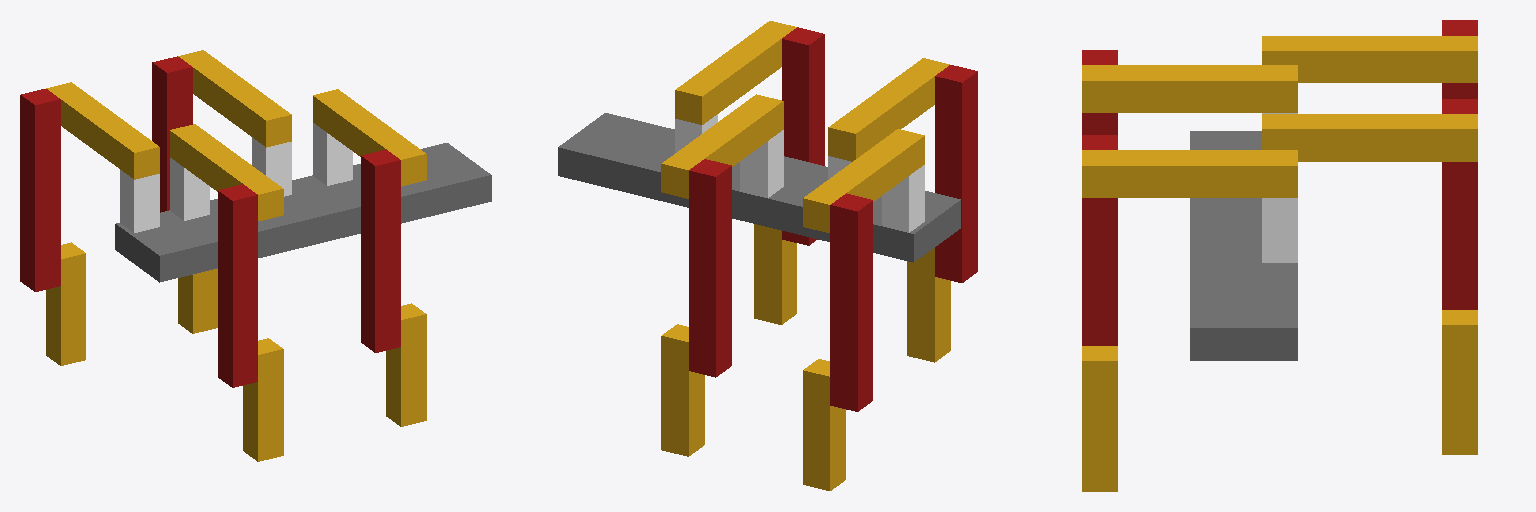
The robot description file, URDF, robot "v0":
<?xml version="1.0" encoding="utf-8"?>
<!-- =================================================================================== -->
<!-- |    This document was autogenerated by xacro from ../robots/v0variants/xacros/v0_4l_27.xacro | -->
<!-- |    EDITING THIS FILE BY HAND IS NOT RECOMMENDED                                 | -->
<!-- =================================================================================== -->
<robot name="v0">
  <material name="grey">
    <color rgba="0.5 0.5 0.5 1"/>
  </material>
  <material name="white">
    <color rgba="1 1 1 1"/>
  </material>
  <material name="yellow">
    <color rgba="0.91 0.7 0.14 1"/>
  </material>
  <material name="red">
    <color rgba="0.71 0.14 0.14 1"/>
  </material>
  <link name="body">
    <visual>
      <geometry>
        <box size="1.3 0.3 0.1"/>
      </geometry>
      <material name="grey"/>
      <origin rpy="0 0 0" xyz="0 0 0.7"/>
    </visual>
    <collision>
      <geometry>
        <box size="1.3 0.3 0.1"/>
      </geometry>
      <origin rpy="0 0 0" xyz="0 0 0.7"/>
    </collision>
    <inertial>
      <mass value="99.84"/>
      <inertia ixx="0.832" ixy="0.0" ixz="0.0" iyy="14.144" iyz="0.0" izz="14.8096"/>
    </inertial>
  </link>
  <link name="l1_segment_1">
    <visual>
      <geometry>
        <box size="0.1 0.1 0.2"/>
      </geometry>
      <material name="white"/>
      <origin rpy="0 0 0" xyz="0 0 0.1"/>
    </visual>
    <collision>
      <geometry>
        <box size="0.1 0.1 0.2"/>
      </geometry>
      <origin rpy="0 0 0" xyz="0 0 0.1"/>
    </collision>
    <inertial>
      <mass value="5.12"/>
      <inertia ixx="0.0213333333333" ixy="0.0" ixz="0.0" iyy="0.0213333333333" iyz="0.0" izz="0.00853333333333"/>
    </inertial>
  </link>
  <joint name="l1_base_to_joint_1" type="fixed">
    <parent link="body"/>
    <child link="l1_segment_1"/>
    <origin rpy="0 0 0" xyz="-0.5831814391138463 0.1 0.75"/>
  </joint>
  <link name="l1_segment_2_HIP">
    <visual>
      <geometry>
        <box size="0.1 0.6 0.1"/>
      </geometry>
      <material name="yellow"/>
      <origin rpy="0 0 0" xyz="0 0.25 0"/>
    </visual>
    <collision>
      <geometry>
        <box size="0.1 0.6 0.1"/>
      </geometry>
      <origin rpy="0 0 0" xyz="0 0.25 0"/>
    </collision>
    <inertial>
      <mass value="15.36"/>
      <inertia ixx="0.4736" ixy="0.0" ixz="0.0" iyy="0.0256" iyz="0.0" izz="0.4736"/>
    </inertial>
  </link>
  <joint name="l1_joint_1_to_2" type="revolute">
    <parent link="l1_segment_1"/>
    <child link="l1_segment_2_HIP"/>
    <origin rpy="0 0 0" xyz="0 0 0.25"/>
    <axis xyz="0.0 0.0 1.0"/>
    <limit effort="2048" lower="-1.2" upper="1.2" velocity="20"/>
  </joint>
  <link name="l1_segment_3_THIGH">
    <visual>
      <geometry>
        <box size="0.1 0.1 0.7"/>
      </geometry>
      <material name="red"/>
      <origin rpy="0 0 0" xyz="0 0 -0.3"/>
    </visual>
    <collision>
      <geometry>
        <box size="0.1 0.1 0.7"/>
      </geometry>
      <origin rpy="0 0 0" xyz="0 0 -0.3"/>
    </collision>
    <inertial>
      <mass value="17.92"/>
      <inertia ixx="0.746666666667" ixy="0.0" ixz="0.0" iyy="0.746666666667" iyz="0.0" izz="0.0298666666667"/>
    </inertial>
  </link>
  <joint name="l1_joint_2_to_3" type="revolute">
    <parent link="l1_segment_2_HIP"/>
    <child link="l1_segment_3_THIGH"/>
    <origin rpy="0 0 0" xyz="-0.1 0.5 0"/>
    <axis xyz="1.0 0.0 0.0"/>
    <limit effort="2048" lower="-0.2" upper="0.75" velocity="20"/>
  </joint>
  <link name="l1_segment_4_FOOT">
    <visual>
      <geometry>
        <box size="0.1 0.1 0.4"/>
      </geometry>
      <material name="yellow"/>
      <origin rpy="0 0 0" xyz="0 0 -0.2"/>
    </visual>
    <collision>
      <geometry>
        <box size="0.1 0.1 0.4"/>
      </geometry>
      <origin rpy="0 0 0" xyz="0 0 -0.2"/>
    </collision>
    <inertial>
      <mass value="10.24"/>
      <inertia ixx="0.145066666667" ixy="0.0" ixz="0.0" iyy="0.145066666667" iyz="0.0" izz="0.0170666666667"/>
    </inertial>
  </link>
  <joint name="l1_joint_3_to_4_FOOT" type="revolute">
    <parent link="l1_segment_3_THIGH"/>
    <child link="l1_segment_4_FOOT"/>
    <origin rpy="0 0 0" xyz="0.1 0 -0.55"/>
    <axis xyz="1.0 0.0 0.0"/>
    <limit effort="2048" lower="-0.2" upper="0.5" velocity="20"/>
  </joint>
  <link name="r2_segment_1">
    <visual>
      <geometry>
        <box size="0.1 0.1 0.2"/>
      </geometry>
      <material name="white"/>
      <origin rpy="0 0 0" xyz="0 0 0.1"/>
    </visual>
    <collision>
      <geometry>
        <box size="0.1 0.1 0.2"/>
      </geometry>
      <origin rpy="0 0 0" xyz="0 0 0.1"/>
    </collision>
    <inertial>
      <mass value="5.12"/>
      <inertia ixx="0.0213333333333" ixy="0.0" ixz="0.0" iyy="0.0213333333333" iyz="0.0" izz="0.00853333333333"/>
    </inertial>
  </link>
  <joint name="r2_base_to_joint_1" type="fixed">
    <parent link="body"/>
    <child link="r2_segment_1"/>
    <origin rpy="0 0 0" xyz="-0.3876569127802473 0.1 0.75"/>
  </joint>
  <link name="r2_segment_2_HIP">
    <visual>
      <geometry>
        <box size="0.1 0.6 0.1"/>
      </geometry>
      <material name="yellow"/>
      <origin rpy="0 0 0" xyz="0 -0.25 0"/>
    </visual>
    <collision>
      <geometry>
        <box size="0.1 0.6 0.1"/>
      </geometry>
      <origin rpy="0 0 0" xyz="0 -0.25 0"/>
    </collision>
    <inertial>
      <mass value="15.36"/>
      <inertia ixx="0.4736" ixy="0.0" ixz="0.0" iyy="0.0256" iyz="0.0" izz="0.4736"/>
    </inertial>
  </link>
  <joint name="r2_joint_1_to_2" type="revolute">
    <parent link="r2_segment_1"/>
    <child link="r2_segment_2_HIP"/>
    <origin rpy="0 0 0" xyz="0 0 0.25"/>
    <axis xyz="0.0 0.0 1.0"/>
    <limit effort="2048" lower="-1.2" upper="1.2" velocity="20"/>
  </joint>
  <link name="r2_segment_3_THIGH">
    <visual>
      <geometry>
        <box size="0.1 0.1 0.7"/>
      </geometry>
      <material name="red"/>
      <origin rpy="0 0 0" xyz="0 0 -0.3"/>
    </visual>
    <collision>
      <geometry>
        <box size="0.1 0.1 0.7"/>
      </geometry>
      <origin rpy="0 0 0" xyz="0 0 -0.3"/>
    </collision>
    <inertial>
      <mass value="17.92"/>
      <inertia ixx="0.746666666667" ixy="0.0" ixz="0.0" iyy="0.746666666667" iyz="0.0" izz="0.0298666666667"/>
    </inertial>
  </link>
  <joint name="r2_joint_2_to_3" type="revolute">
    <parent link="r2_segment_2_HIP"/>
    <child link="r2_segment_3_THIGH"/>
    <origin rpy="0 0 0" xyz="-0.1 -0.5 0"/>
    <axis xyz="1.0 0.0 0.0"/>
    <limit effort="2048" lower="-0.75" upper="0.2" velocity="20"/>
  </joint>
  <link name="r2_segment_4_FOOT">
    <visual>
      <geometry>
        <box size="0.1 0.1 0.4"/>
      </geometry>
      <material name="yellow"/>
      <origin rpy="0 0 0" xyz="0 0 -0.2"/>
    </visual>
    <collision>
      <geometry>
        <box size="0.1 0.1 0.4"/>
      </geometry>
      <origin rpy="0 0 0" xyz="0 0 -0.2"/>
    </collision>
    <inertial>
      <mass value="10.24"/>
      <inertia ixx="0.145066666667" ixy="0.0" ixz="0.0" iyy="0.145066666667" iyz="0.0" izz="0.0170666666667"/>
    </inertial>
  </link>
  <joint name="r2_joint_3_to_4_FOOT" type="revolute">
    <parent link="r2_segment_3_THIGH"/>
    <child link="r2_segment_4_FOOT"/>
    <origin rpy="0 0 0" xyz="0.1 0 -0.55"/>
    <axis xyz="1.0 0.0 0.0"/>
    <limit effort="2048" lower="-0.5" upper="0.2" velocity="20"/>
  </joint>
  <link name="l3_segment_1">
    <visual>
      <geometry>
        <box size="0.1 0.1 0.2"/>
      </geometry>
      <material name="white"/>
      <origin rpy="0 0 0" xyz="0 0 0.1"/>
    </visual>
    <collision>
      <geometry>
        <box size="0.1 0.1 0.2"/>
      </geometry>
      <origin rpy="0 0 0" xyz="0 0 0.1"/>
    </collision>
    <inertial>
      <mass value="5.12"/>
      <inertia ixx="0.0213333333333" ixy="0.0" ixz="0.0" iyy="0.0213333333333" iyz="0.0" izz="0.00853333333333"/>
    </inertial>
  </link>
  <joint name="l3_base_to_joint_1" type="fixed">
    <parent link="body"/>
    <child link="l3_segment_1"/>
    <origin rpy="0 0 0" xyz="-0.06625659838899614 0.1 0.75"/>
  </joint>
  <link name="l3_segment_2_HIP">
    <visual>
      <geometry>
        <box size="0.1 0.6 0.1"/>
      </geometry>
      <material name="yellow"/>
      <origin rpy="0 0 0" xyz="0 0.25 0"/>
    </visual>
    <collision>
      <geometry>
        <box size="0.1 0.6 0.1"/>
      </geometry>
      <origin rpy="0 0 0" xyz="0 0.25 0"/>
    </collision>
    <inertial>
      <mass value="15.36"/>
      <inertia ixx="0.4736" ixy="0.0" ixz="0.0" iyy="0.0256" iyz="0.0" izz="0.4736"/>
    </inertial>
  </link>
  <joint name="l3_joint_1_to_2" type="revolute">
    <parent link="l3_segment_1"/>
    <child link="l3_segment_2_HIP"/>
    <origin rpy="0 0 0" xyz="0 0 0.25"/>
    <axis xyz="0.0 0.0 1.0"/>
    <limit effort="2048" lower="-1.2" upper="1.2" velocity="20"/>
  </joint>
  <link name="l3_segment_3_THIGH">
    <visual>
      <geometry>
        <box size="0.1 0.1 0.7"/>
      </geometry>
      <material name="red"/>
      <origin rpy="0 0 0" xyz="0 0 -0.3"/>
    </visual>
    <collision>
      <geometry>
        <box size="0.1 0.1 0.7"/>
      </geometry>
      <origin rpy="0 0 0" xyz="0 0 -0.3"/>
    </collision>
    <inertial>
      <mass value="17.92"/>
      <inertia ixx="0.746666666667" ixy="0.0" ixz="0.0" iyy="0.746666666667" iyz="0.0" izz="0.0298666666667"/>
    </inertial>
  </link>
  <joint name="l3_joint_2_to_3" type="revolute">
    <parent link="l3_segment_2_HIP"/>
    <child link="l3_segment_3_THIGH"/>
    <origin rpy="0 0 0" xyz="-0.1 0.5 0"/>
    <axis xyz="1.0 0.0 0.0"/>
    <limit effort="2048" lower="-0.2" upper="0.75" velocity="20"/>
  </joint>
  <link name="l3_segment_4_FOOT">
    <visual>
      <geometry>
        <box size="0.1 0.1 0.4"/>
      </geometry>
      <material name="yellow"/>
      <origin rpy="0 0 0" xyz="0 0 -0.2"/>
    </visual>
    <collision>
      <geometry>
        <box size="0.1 0.1 0.4"/>
      </geometry>
      <origin rpy="0 0 0" xyz="0 0 -0.2"/>
    </collision>
    <inertial>
      <mass value="10.24"/>
      <inertia ixx="0.145066666667" ixy="0.0" ixz="0.0" iyy="0.145066666667" iyz="0.0" izz="0.0170666666667"/>
    </inertial>
  </link>
  <joint name="l3_joint_3_to_4_FOOT" type="revolute">
    <parent link="l3_segment_3_THIGH"/>
    <child link="l3_segment_4_FOOT"/>
    <origin rpy="0 0 0" xyz="0.1 0 -0.55"/>
    <axis xyz="1.0 0.0 0.0"/>
    <limit effort="2048" lower="-0.2" upper="0.5" velocity="20"/>
  </joint>
  <link name="r4_segment_1">
    <visual>
      <geometry>
        <box size="0.1 0.1 0.2"/>
      </geometry>
      <material name="white"/>
      <origin rpy="0 0 0" xyz="0 0 0.1"/>
    </visual>
    <collision>
      <geometry>
        <box size="0.1 0.1 0.2"/>
      </geometry>
      <origin rpy="0 0 0" xyz="0 0 0.1"/>
    </collision>
    <inertial>
      <mass value="5.12"/>
      <inertia ixx="0.0213333333333" ixy="0.0" ixz="0.0" iyy="0.0213333333333" iyz="0.0" izz="0.00853333333333"/>
    </inertial>
  </link>
  <joint name="r4_base_to_joint_1" type="fixed">
    <parent link="body"/>
    <child link="r4_segment_1"/>
    <origin rpy="0 0 0" xyz="0.17220800247636447 0.1 0.75"/>
  </joint>
  <link name="r4_segment_2_HIP">
    <visual>
      <geometry>
        <box size="0.1 0.6 0.1"/>
      </geometry>
      <material name="yellow"/>
      <origin rpy="0 0 0" xyz="0 -0.25 0"/>
    </visual>
    <collision>
      <geometry>
        <box size="0.1 0.6 0.1"/>
      </geometry>
      <origin rpy="0 0 0" xyz="0 -0.25 0"/>
    </collision>
    <inertial>
      <mass value="15.36"/>
      <inertia ixx="0.4736" ixy="0.0" ixz="0.0" iyy="0.0256" iyz="0.0" izz="0.4736"/>
    </inertial>
  </link>
  <joint name="r4_joint_1_to_2" type="revolute">
    <parent link="r4_segment_1"/>
    <child link="r4_segment_2_HIP"/>
    <origin rpy="0 0 0" xyz="0 0 0.25"/>
    <axis xyz="0.0 0.0 1.0"/>
    <limit effort="2048" lower="-1.2" upper="1.2" velocity="20"/>
  </joint>
  <link name="r4_segment_3_THIGH">
    <visual>
      <geometry>
        <box size="0.1 0.1 0.7"/>
      </geometry>
      <material name="red"/>
      <origin rpy="0 0 0" xyz="0 0 -0.3"/>
    </visual>
    <collision>
      <geometry>
        <box size="0.1 0.1 0.7"/>
      </geometry>
      <origin rpy="0 0 0" xyz="0 0 -0.3"/>
    </collision>
    <inertial>
      <mass value="17.92"/>
      <inertia ixx="0.746666666667" ixy="0.0" ixz="0.0" iyy="0.746666666667" iyz="0.0" izz="0.0298666666667"/>
    </inertial>
  </link>
  <joint name="r4_joint_2_to_3" type="revolute">
    <parent link="r4_segment_2_HIP"/>
    <child link="r4_segment_3_THIGH"/>
    <origin rpy="0 0 0" xyz="-0.1 -0.5 0"/>
    <axis xyz="1.0 0.0 0.0"/>
    <limit effort="2048" lower="-0.75" upper="0.2" velocity="20"/>
  </joint>
  <link name="r4_segment_4_FOOT">
    <visual>
      <geometry>
        <box size="0.1 0.1 0.4"/>
      </geometry>
      <material name="yellow"/>
      <origin rpy="0 0 0" xyz="0 0 -0.2"/>
    </visual>
    <collision>
      <geometry>
        <box size="0.1 0.1 0.4"/>
      </geometry>
      <origin rpy="0 0 0" xyz="0 0 -0.2"/>
    </collision>
    <inertial>
      <mass value="10.24"/>
      <inertia ixx="0.145066666667" ixy="0.0" ixz="0.0" iyy="0.145066666667" iyz="0.0" izz="0.0170666666667"/>
    </inertial>
  </link>
  <joint name="r4_joint_3_to_4_FOOT" type="revolute">
    <parent link="r4_segment_3_THIGH"/>
    <child link="r4_segment_4_FOOT"/>
    <origin rpy="0 0 0" xyz="0.1 0 -0.55"/>
    <axis xyz="1.0 0.0 0.0"/>
    <limit effort="2048" lower="-0.5" upper="0.2" velocity="20"/>
  </joint>
</robot>

--- Render facts (derived) ---
3 views of the same robot in one strip: view 1: azimuth 30°, elevation 25°; view 2: azimuth 150°, elevation 25°; view 3: azimuth 270°, elevation 25° (orthographic).
Robot: v0 — 17 links, 16 joints (12 revolute, 4 fixed); root link body; default pose: all joints at 0.
Links seen in each view (by area): view 1: body, l1_segment_3_THIGH, r2_segment_3_THIGH, r4_segment_3_THIGH, l3_segment_2_HIP, l1_segment_2_HIP, r2_segment_2_HIP, r4_segment_2_HIP, r2_segment_4_FOOT, r4_segment_4_FOOT, l1_segment_4_FOOT, l3_segment_3_THIGH (+5 smaller); view 2: body, l1_segment_3_THIGH, l3_segment_3_THIGH, r2_segment_3_THIGH, r4_segment_3_THIGH, r4_segment_2_HIP, r2_segment_2_HIP, l3_segment_2_HIP, l1_segment_2_HIP, l3_segment_4_FOOT, l1_segment_4_FOOT, r2_segment_4_FOOT (+4 smaller); view 3: body, r2_segment_2_HIP, r4_segment_2_HIP, l3_segment_2_HIP, l1_segment_2_HIP, l3_segment_3_THIGH, r4_segment_3_THIGH, r4_segment_4_FOOT, l3_segment_4_FOOT, r4_segment_1, r2_segment_3_THIGH, l1_segment_3_THIGH.
Link boxes in pixels (box(x1,y1,x2,y2)): body: box(115, 143, 491, 282); l1_segment_3_THIGH: box(20, 89, 60, 291); r2_segment_3_THIGH: box(218, 184, 257, 387); r4_segment_3_THIGH: box(361, 149, 400, 352); l3_segment_2_HIP: box(178, 50, 291, 147); l1_segment_2_HIP: box(46, 82, 159, 179); r2_segment_2_HIP: box(170, 124, 283, 220); r4_segment_2_HIP: box(313, 89, 426, 186); r2_segment_4_FOOT: box(243, 338, 283, 461); r4_segment_4_FOOT: box(386, 303, 426, 426); l1_segment_4_FOOT: box(46, 242, 85, 365); l3_segment_3_THIGH: box(152, 56, 192, 212); body: box(558, 113, 960, 262); l1_segment_3_THIGH: box(830, 193, 872, 411); l3_segment_3_THIGH: box(689, 159, 731, 377); r2_segment_3_THIGH: box(935, 65, 977, 282); r4_segment_3_THIGH: box(782, 27, 824, 245); r4_segment_2_HIP: box(675, 21, 796, 124); r2_segment_2_HIP: box(828, 58, 949, 161); l3_segment_2_HIP: box(661, 94, 783, 198); l1_segment_2_HIP: box(803, 129, 924, 232); l3_segment_4_FOOT: box(661, 324, 704, 456); l1_segment_4_FOOT: box(803, 359, 845, 490); r2_segment_4_FOOT: box(907, 248, 950, 362); body: box(1190, 131, 1297, 360); r2_segment_2_HIP: box(1082, 65, 1297, 112); r4_segment_2_HIP: box(1082, 150, 1297, 197); l3_segment_2_HIP: box(1262, 114, 1477, 161); l1_segment_2_HIP: box(1262, 36, 1477, 82); l3_segment_3_THIGH: box(1442, 99, 1477, 309); r4_segment_3_THIGH: box(1082, 135, 1117, 345); r4_segment_4_FOOT: box(1082, 346, 1117, 491); l3_segment_4_FOOT: box(1442, 310, 1477, 454); r4_segment_1: box(1262, 198, 1297, 262); r2_segment_3_THIGH: box(1082, 50, 1117, 134); l1_segment_3_THIGH: box(1442, 20, 1477, 98).
Bounding box of the posed robot: 1.38 × 1.1 × 1 m (x, y, z).
Geometry: primitives only (box / cylinder / sphere), no mesh files.